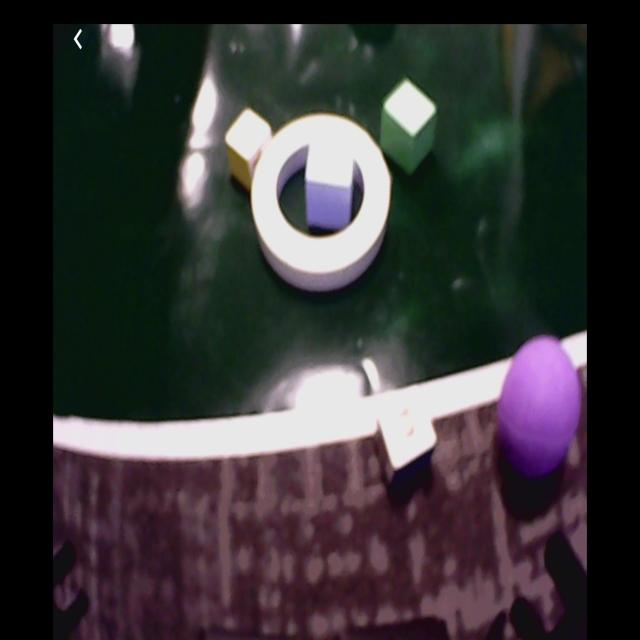ball: (499, 337, 583, 477)
